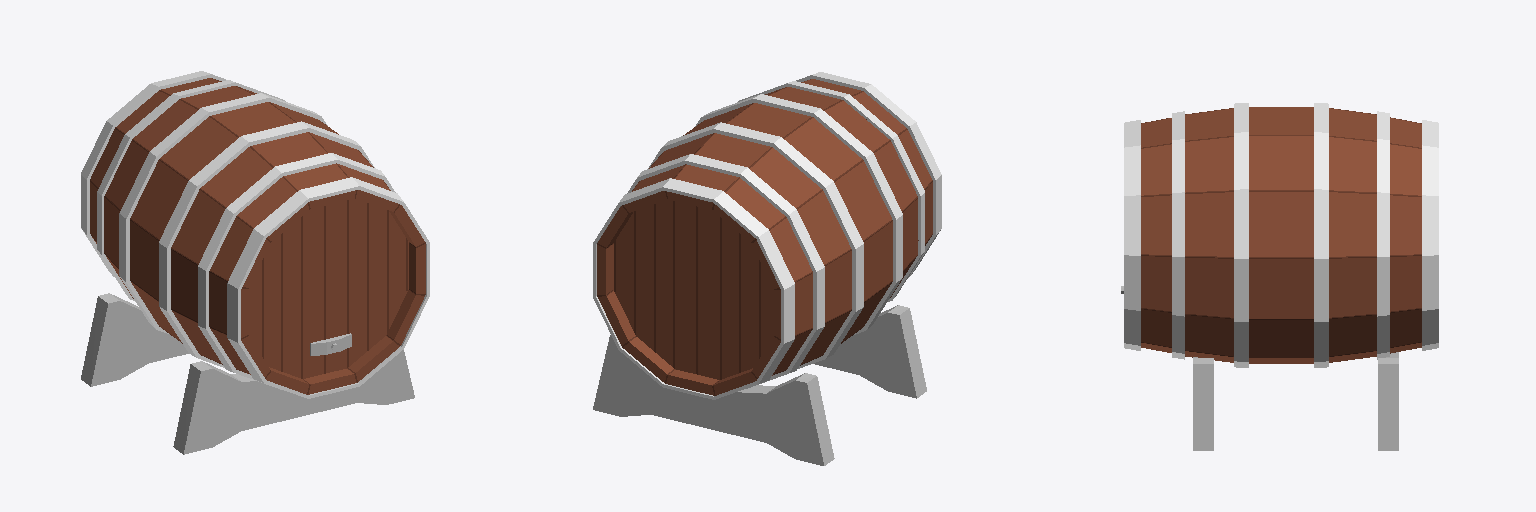
The picture shows the model from 3 angles: view 1: azimuth 30°, elevation 25°; view 2: azimuth 150°, elevation 25°; view 3: azimuth 270°, elevation 25°; orthographic projection.
Parts seen in each view (by area): view 1: Barrel_LowDetail, Circle; view 2: Barrel_LowDetail, Circle; view 3: Barrel_LowDetail, Circle.
Part boxes in pixels (x1,y1,x2,y2): Barrel_LowDetail: (81,71,429,398); Circle: (81,293,414,454); Barrel_LowDetail: (593,72,941,399); Circle: (593,305,926,465); Barrel_LowDetail: (1124,103,1438,367); Circle: (1121,286,1398,450).
Size of the model in its own units: 3.9 by 4.46 by 4.63.
3 materials, 1 textured.